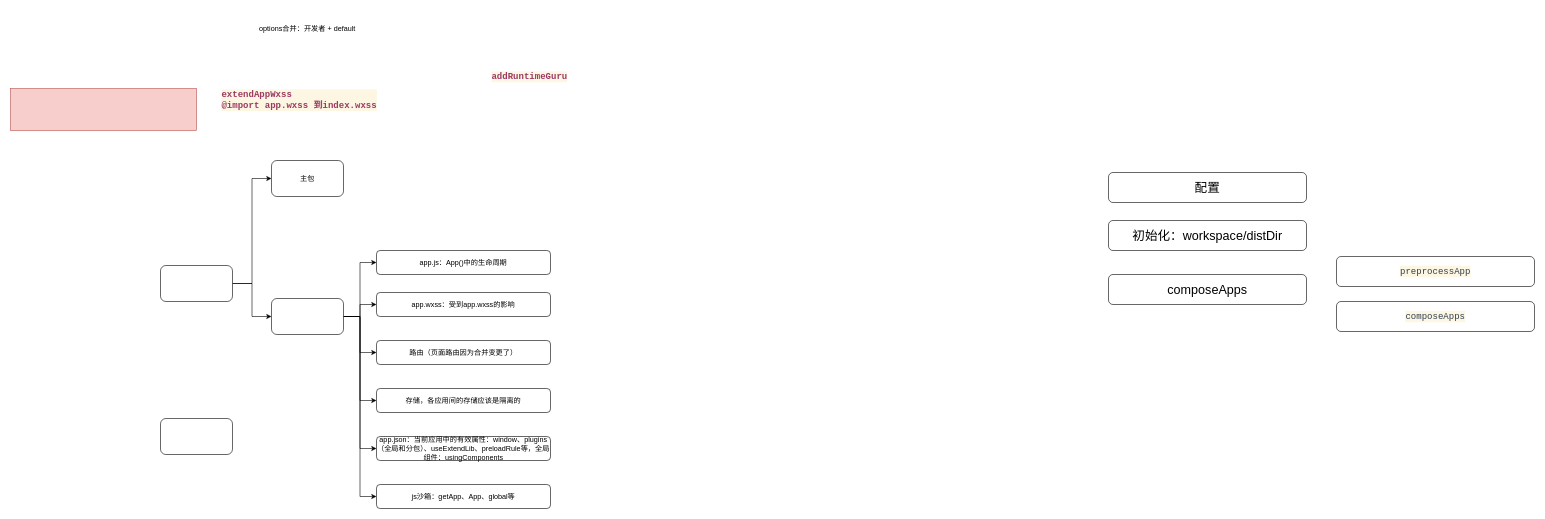
The diagram is 1545 pixels wide and 519 high, and some of its shapes have lost their labels. Here are the shapes that lost their labels. From the top down, the centre of each, then its label:
At [103,109]: "多个小程序的融合".
At [196,283]: "编译阶段".
At [307,316]: "普通分包".
At [196,436]: "运行阶段".
